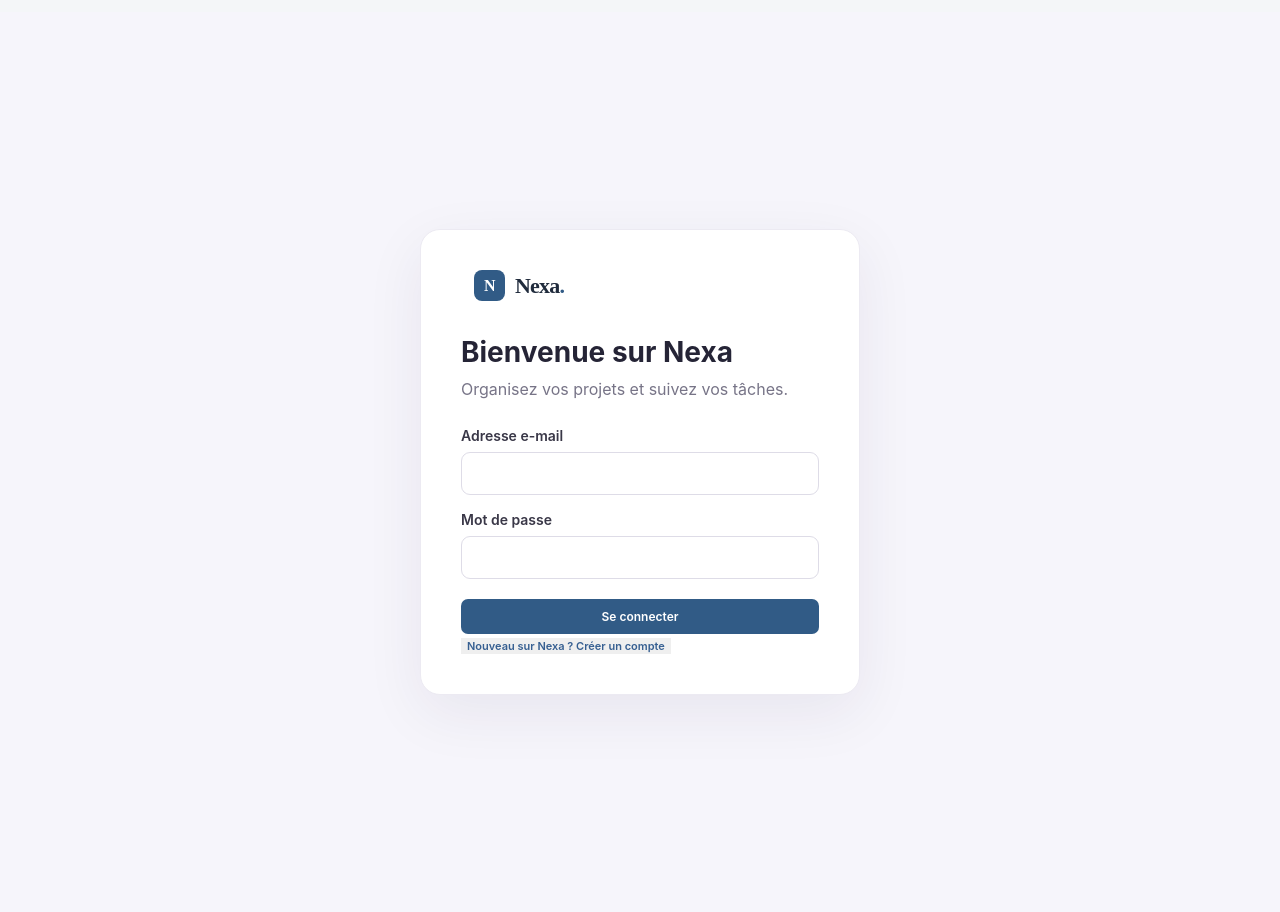
Test: session integration in App › logs in and loads the workspace after an absent session
Expected: the heading "Bienvenue sur Nexa" is shown, [461, 335, 733, 369]
Step 1. Type "ada@example.test" into the field labelled "Adresse e-mail" → (640, 474), box [461, 452, 819, 495]
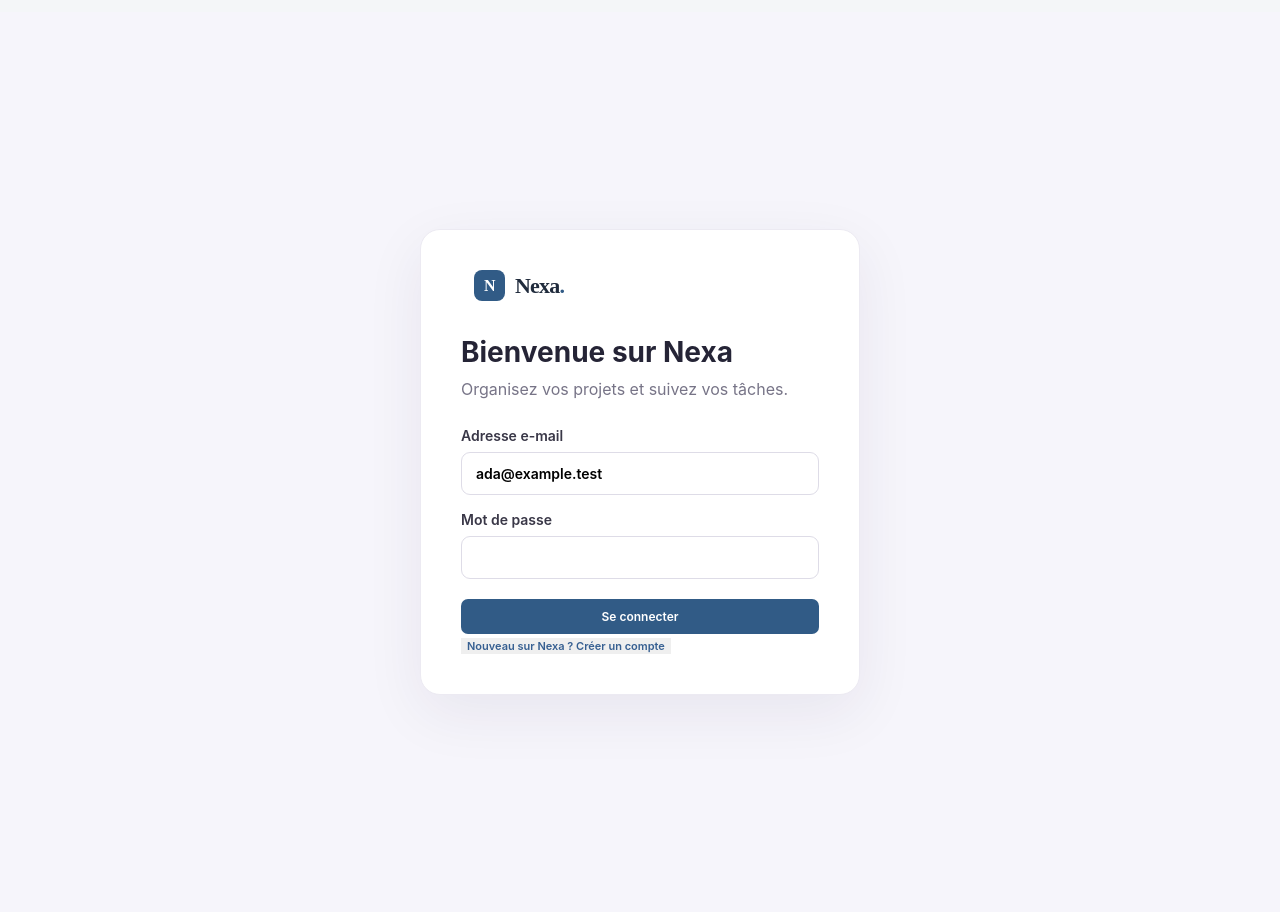
Step 2. Type "password123" into the password field labelled "Mot de passe" → (640, 558), box [461, 536, 819, 579]
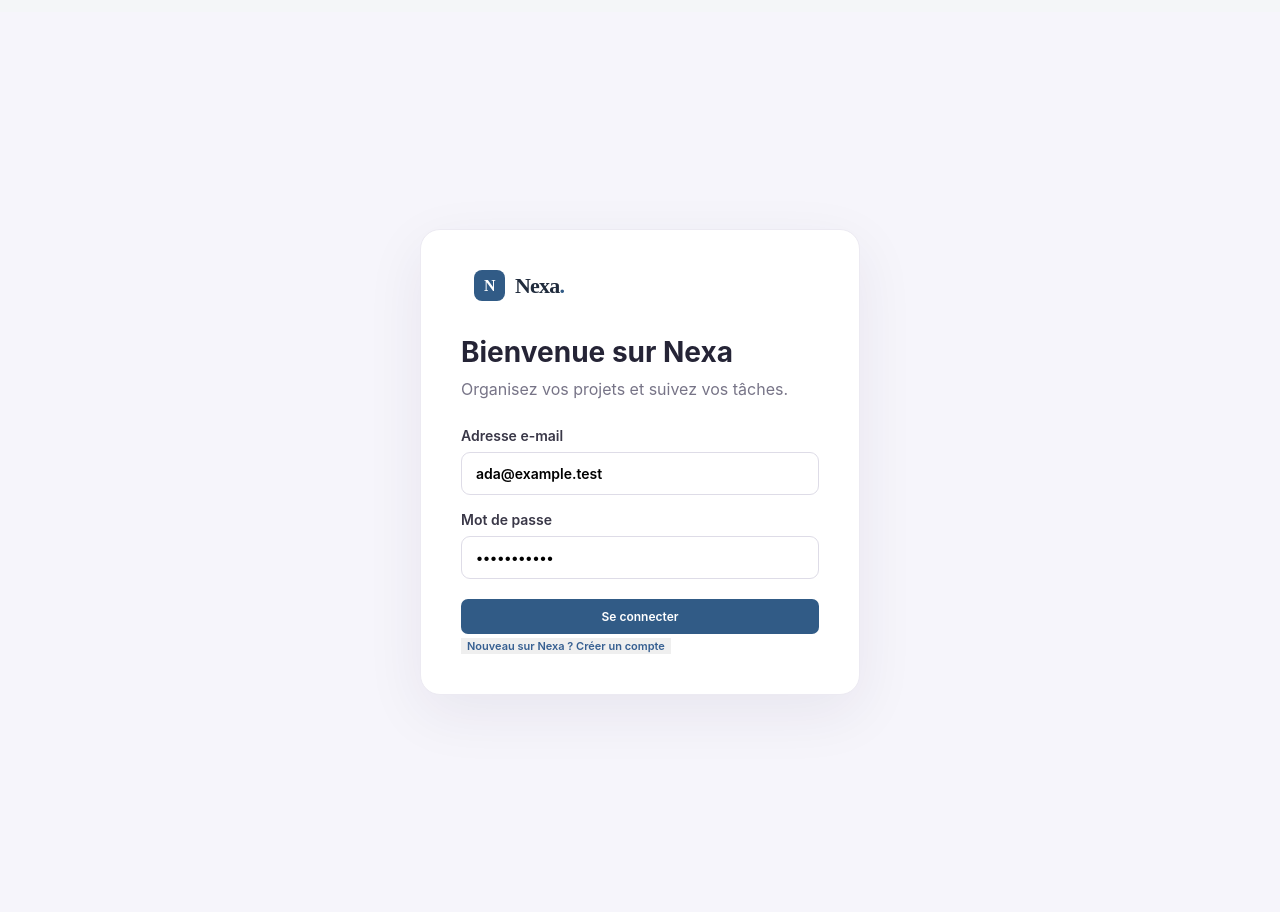
Step 3. Click the button "Se connecter" → click(640, 616), box [461, 599, 819, 634]
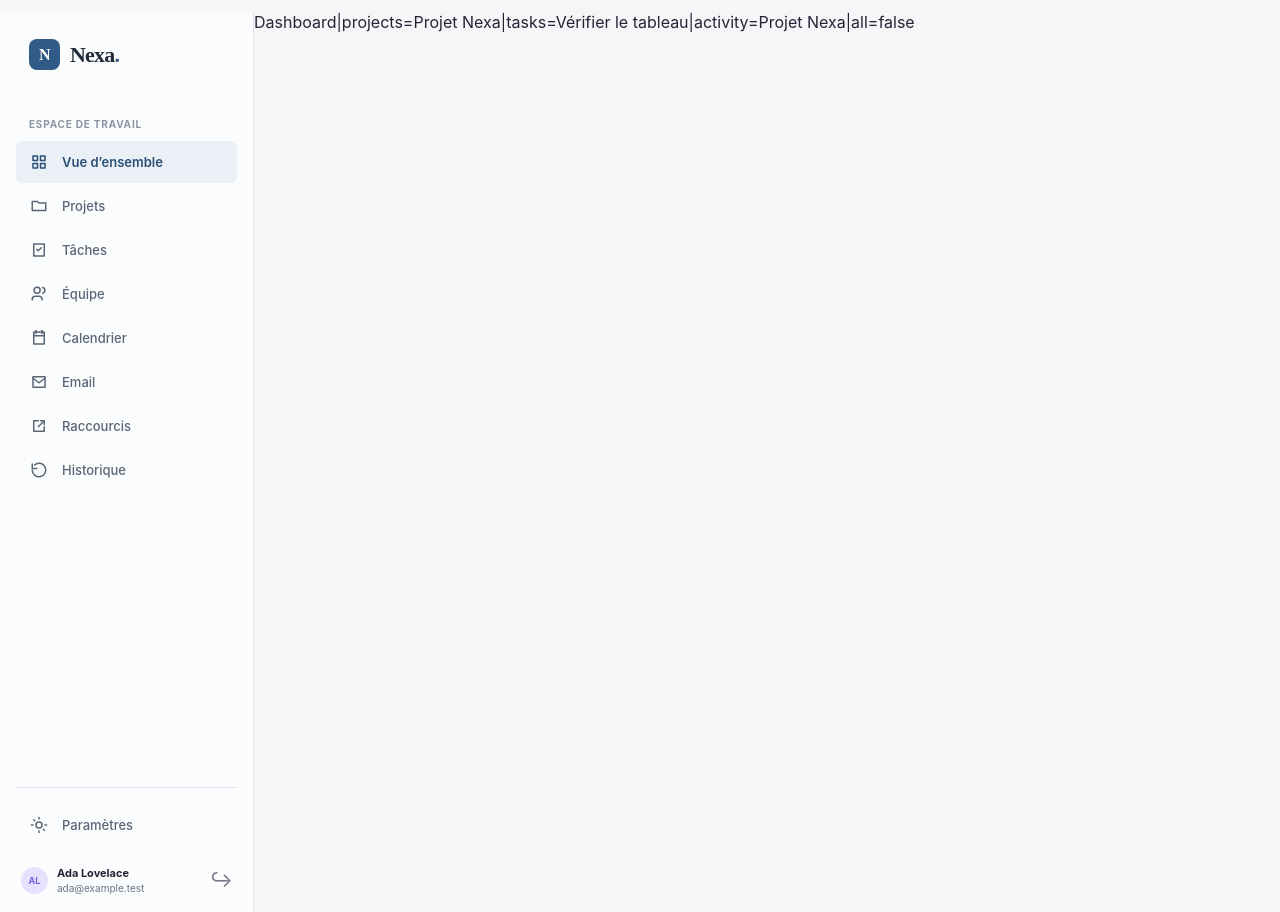
Result: the text "Dashboard|projects=Projet Nexa" is shown at [254, 12, 915, 32]
